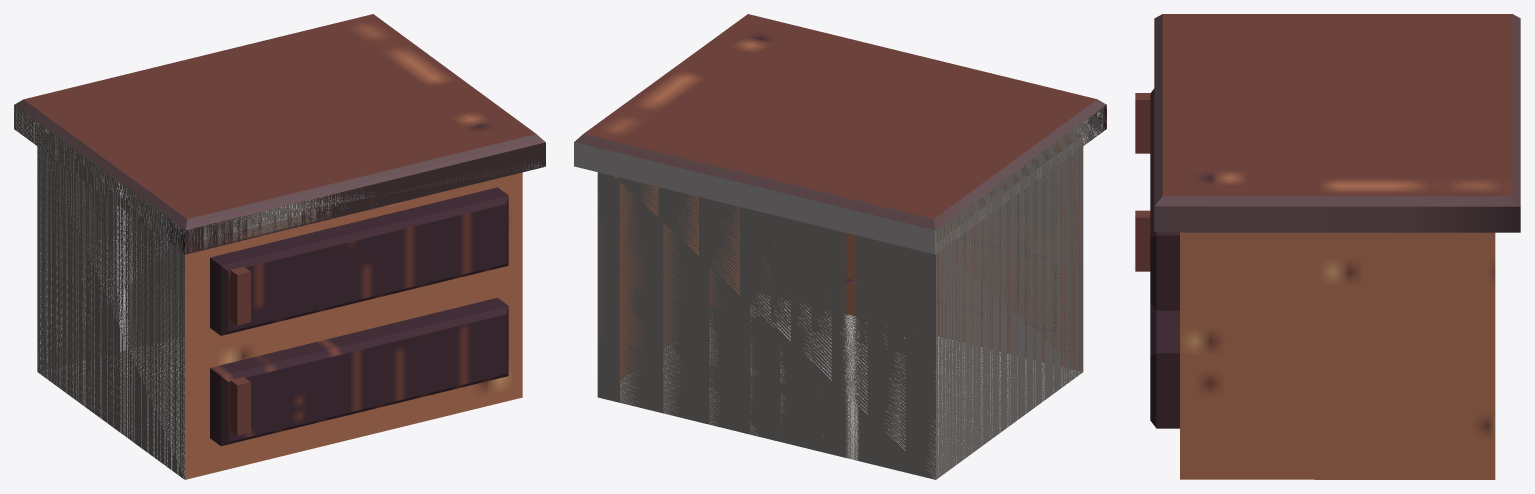
File: GabinetePequeno2.fbx
3 renders of one model, left to right at view 1: azimuth 30°, elevation 25°; view 2: azimuth 150°, elevation 25°; view 3: azimuth 270°, elevation 25°, orthographic. The views are drawn at different scales.
Parts seen in each view (by area): view 1: GabinetePequeno2; view 2: GabinetePequeno2; view 3: GabinetePequeno2.
Boxes of the visible parts, left/top/right/bottom form: GabinetePequeno2: left=14, top=14, right=545, bottom=479; GabinetePequeno2: left=574, top=14, right=1106, bottom=479; GabinetePequeno2: left=1135, top=14, right=1520, bottom=479.
Size of the model in its own units: 110 by 94.9 by 77.8.
